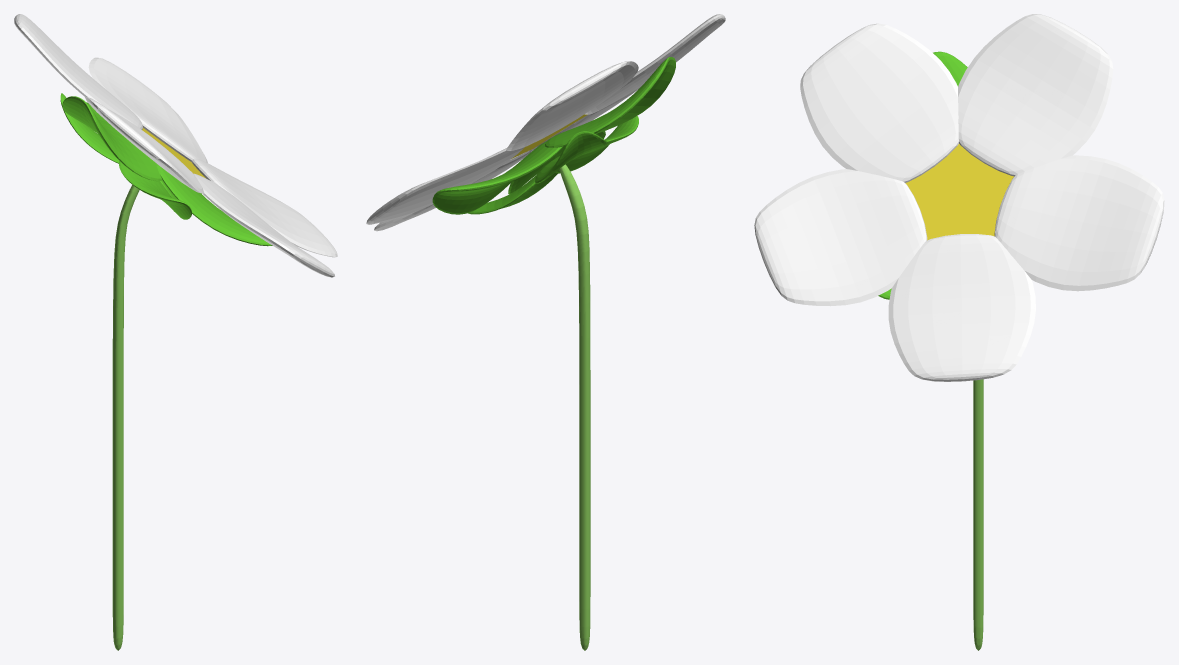
Rendered from strwFlower.fbx.
3 views of the same model, side by side, from view 1: azimuth 30°, elevation 25°; view 2: azimuth 150°, elevation 25°; view 3: azimuth 270°, elevation 25° (orthographic). The views are drawn at different scales.
Parts seen in each view (by area): view 1: Stem.005; view 2: Stem.005; view 3: Stem.005.
Part boxes in pixels (bbox=[...]): Stem.005: bbox=[14, 14, 337, 650]; Stem.005: bbox=[366, 14, 725, 650]; Stem.005: bbox=[754, 14, 1164, 650].
Size of the model in its own units: 63.47 by 138 by 84.62.
